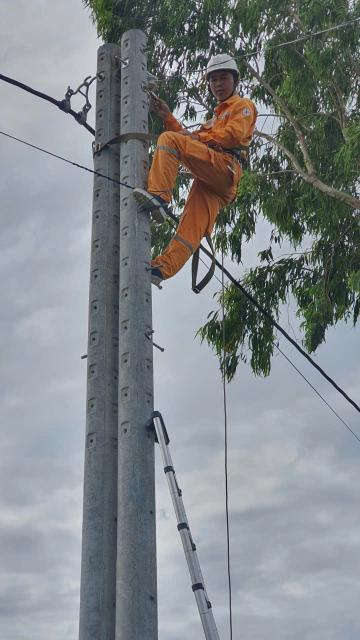harness: (199, 141, 260, 173)
helmet: (203, 53, 246, 82)
shoes: (125, 183, 175, 224), (141, 260, 163, 289)
